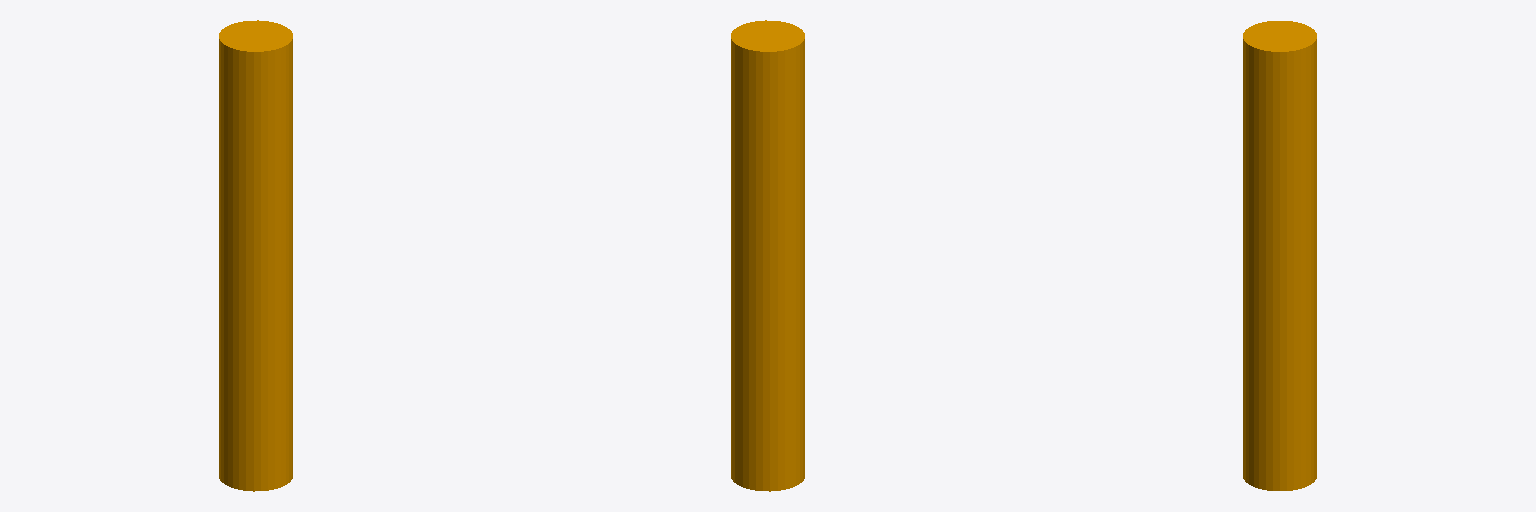
robot.urdf — object:
<robot name="object">
  <link name="object">
    <visual>
      <origin xyz="0 0 0" />
      <geometry>
        <cylinder radius="0.04" length="0.52" />
      </geometry>
    </visual>

    <collision>
      <origin xyz="0 0 0" />
      <geometry>
        <cylinder radius="0.04" length="0.52" />
      </geometry>
    </collision>

    <inertial>
      <mass value="0.05" />
      <inertia ixx="0.0001" ixy="0.0" ixz="0.0" iyy="0.0001" iyz="0.0" izz="0.0001" />
    </inertial>
  </link>
</robot>

--- Facts derived from the render (not from the file) ---
3 views of the same robot in one strip: view 1: azimuth 30°, elevation 25°; view 2: azimuth 150°, elevation 25°; view 3: azimuth 270°, elevation 25° (orthographic).
Robot: object — 1 links, 0 joints (none); root link object; default pose: all joints at 0.
Links seen in each view (by area): view 1: object; view 2: object; view 3: object.
Boxes of the visible links, x1,y1,x2,y2 form: object: [219, 20, 292, 491]; object: [731, 20, 804, 491]; object: [1243, 21, 1316, 490].
Size in the robot's own frame: 0.08 by 0.08 by 0.52 metres.
Geometry: primitives only (box / cylinder / sphere), no mesh files.